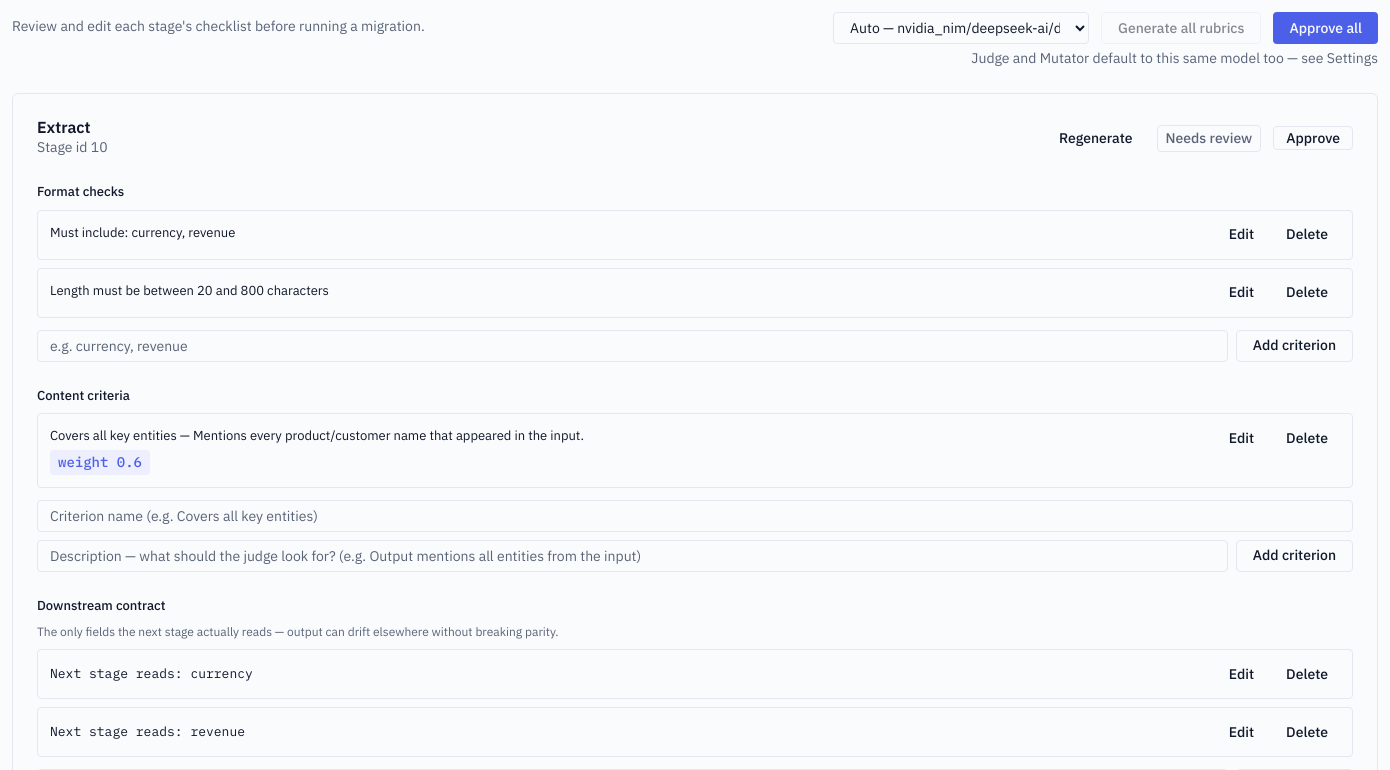
RubricReviewPanel › approves all stages via the Approve all button
This screenshot has width=1390, height=770.
expect the text "Extract" is shown: met, box [37,117,90,137]
Click the button "Approve all" at (1326, 28), box [1273,12,1378,44]
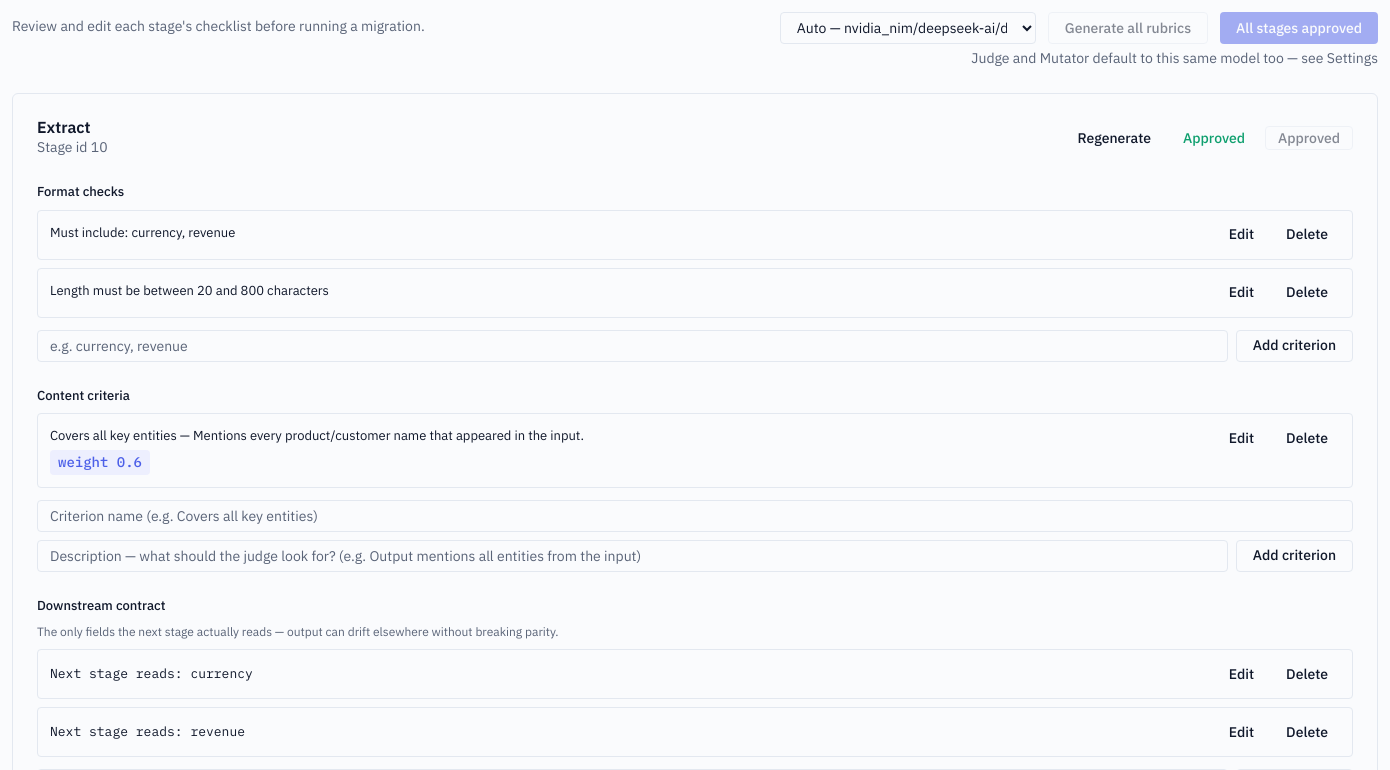
expect the button "All stages approved" is disabled: met, box [1220,12,1378,44]
